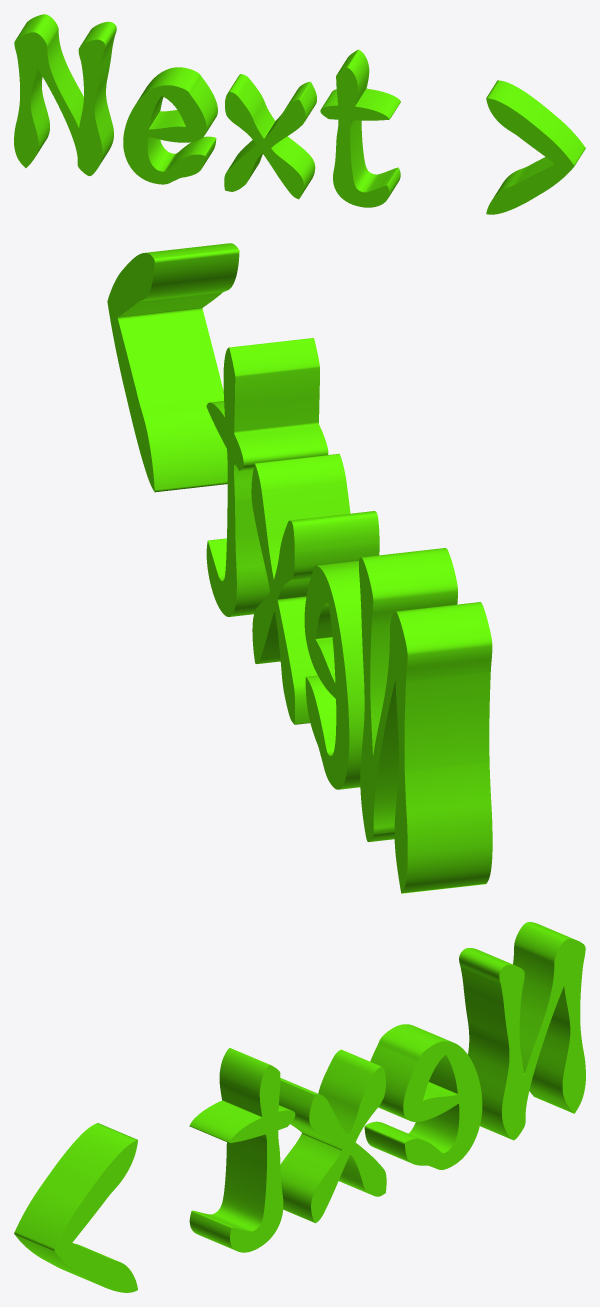
Rendered from text_next_credit_ocean.glb.
3 renders of one model, top to bottom at view 1: azimuth 30°, elevation 25°; view 2: azimuth 150°, elevation 25°; view 3: azimuth 270°, elevation 25°, orthographic. The views are drawn at different scales.
Parts seen in each view (by area): view 1: Text.014; view 2: Text.014; view 3: Text.014.
Part boxes in pixels (x1,y1,x2,y2): Text.014: (14, 14, 585, 214); Text.014: (107, 243, 492, 893); Text.014: (14, 922, 585, 1292).
Size of the model in its own units: 1.33 by 0.4602 by 1.33.
